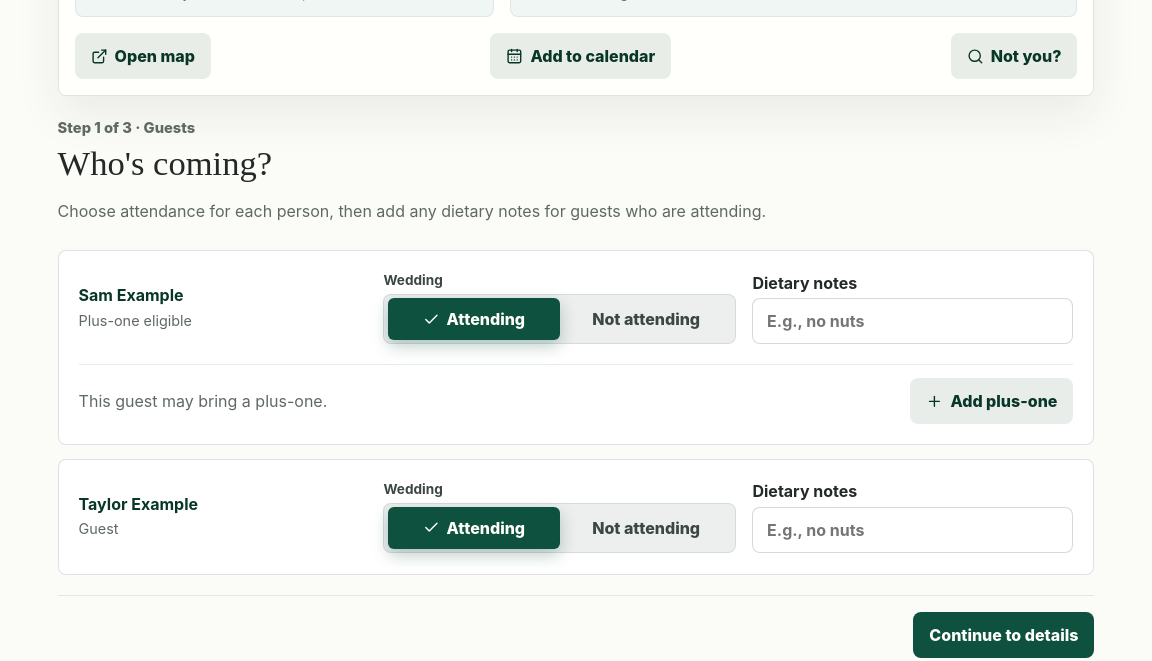
Test case: RsvpPage › moves details-only fields to the second RSVP step
The width and height of the screenshot is (1152, 661).
(page scrolled)
expect the heading "Who's coming?" is shown: met, box [58, 144, 272, 182]
Click the button "Continue to details": (1004, 635) [913, 612, 1094, 658]
(page scrolled)
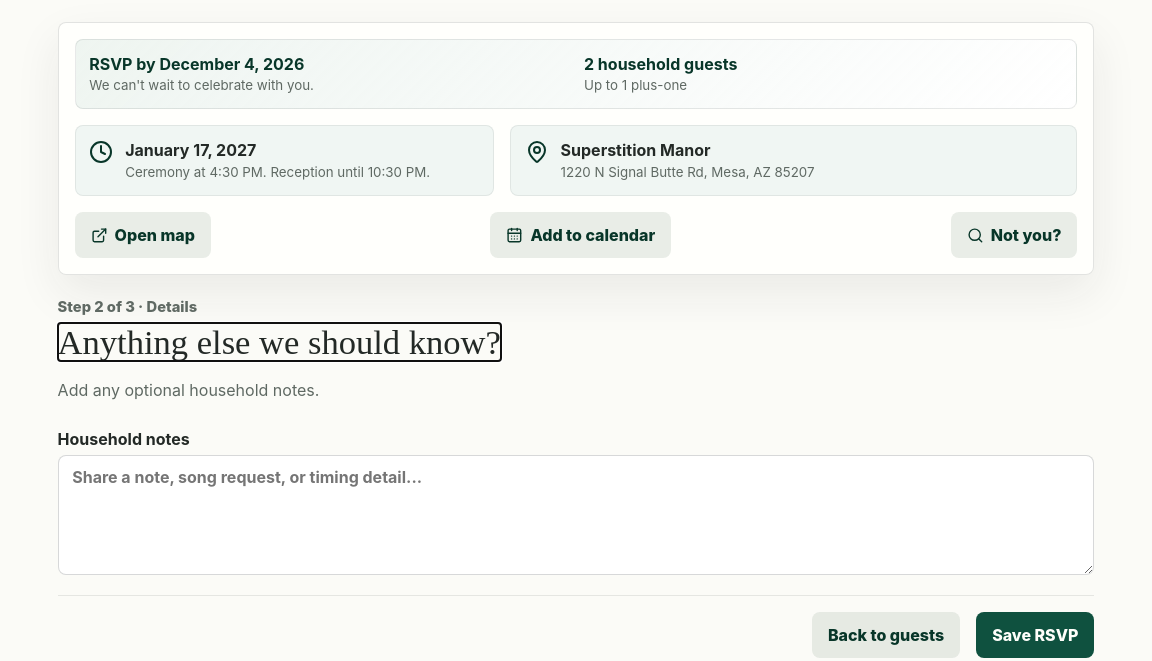
expect the text "Step 2 of 3 · Details" is shown: met, box [58, 298, 197, 316]
expect the heading "Anything else we should know?" is shown: met, box [58, 324, 501, 360]
expect the text box labelled "Household notes" is shown: met, box [58, 455, 1094, 575]
Click the button "Back to guests": (886, 635) [812, 612, 960, 658]
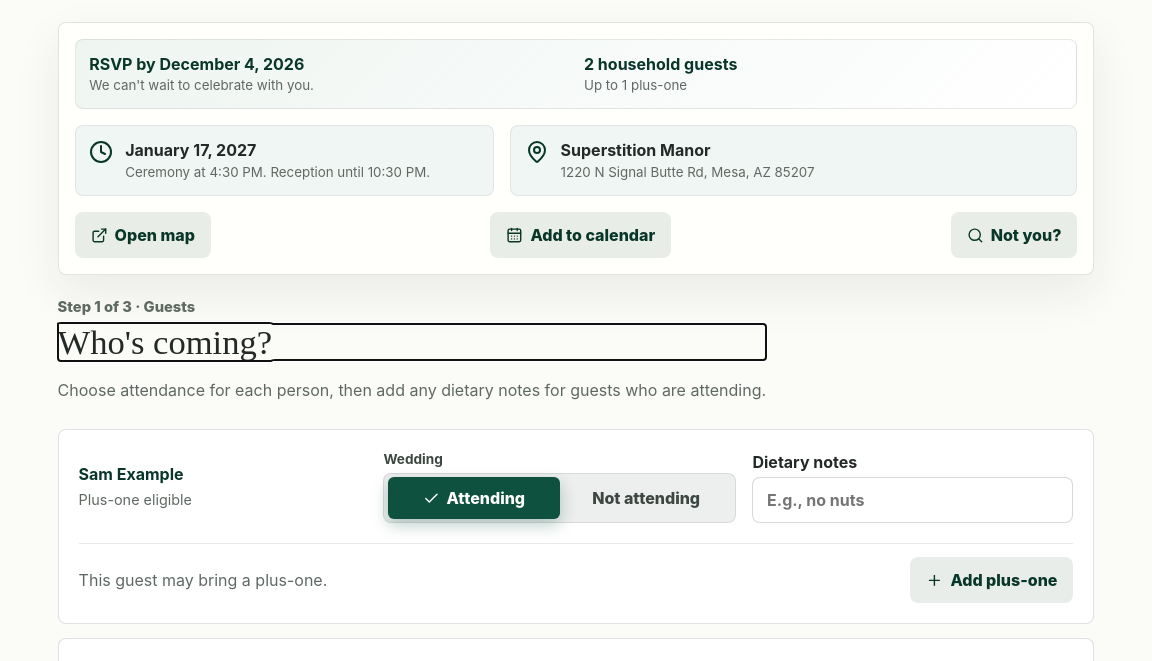
expect the heading "Who's coming?" is shown: met, box [58, 323, 272, 361]
